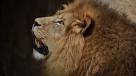lion: (32, 4, 135, 76)
